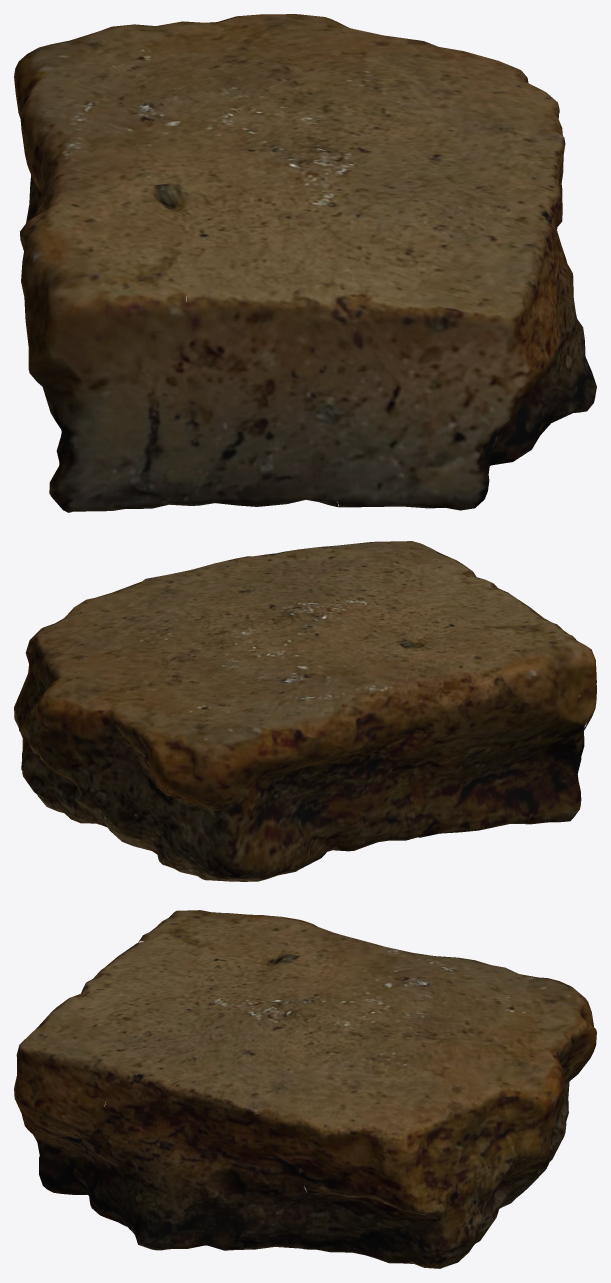
File: noq.glb
3 renders of one model, top to bottom at view 1: azimuth 30°, elevation 25°; view 2: azimuth 150°, elevation 25°; view 3: azimuth 270°, elevation 25°, orthographic. The views are drawn at different scales.
Size of the model in its own units: 0.0413 by 0.0153 by 0.0442.
1 material, 1 textured.
